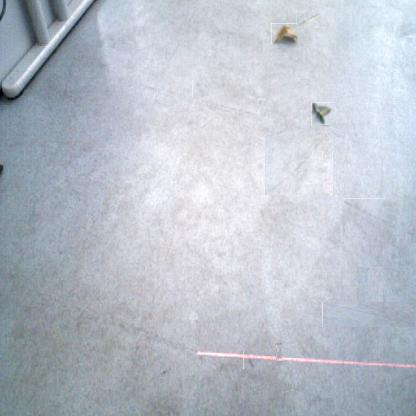dirty: (271, 23, 298, 44), (311, 102, 334, 125), (296, 12, 320, 28)
mark: (265, 131, 333, 195), (340, 284, 400, 345), (343, 198, 385, 221), (398, 21, 416, 40), (191, 82, 207, 97), (243, 351, 254, 369), (276, 344, 282, 362), (160, 369, 170, 377), (259, 99, 266, 106)
